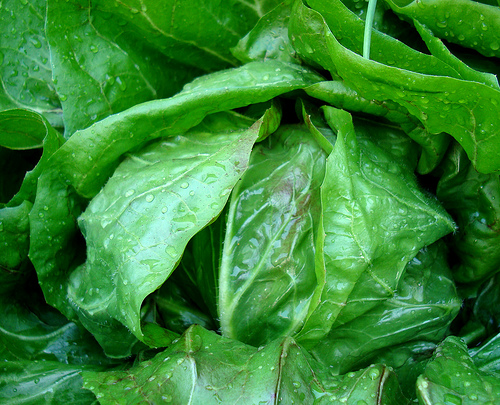cabbage: (1, 1, 498, 403)
